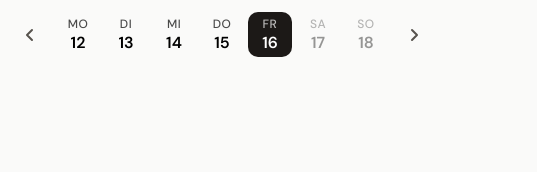
Test case: WeekNavigation › navigates to previous week when previous button is clicked
Click the 1st button with class "nav-btn". click: (30, 34)
box: [12,16,48,52]
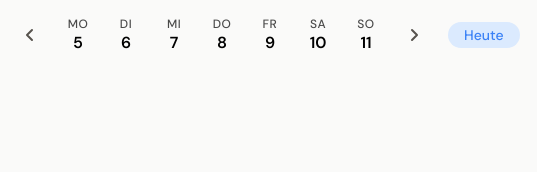
Expected: the button with class "day-number" no longer shows "12"
